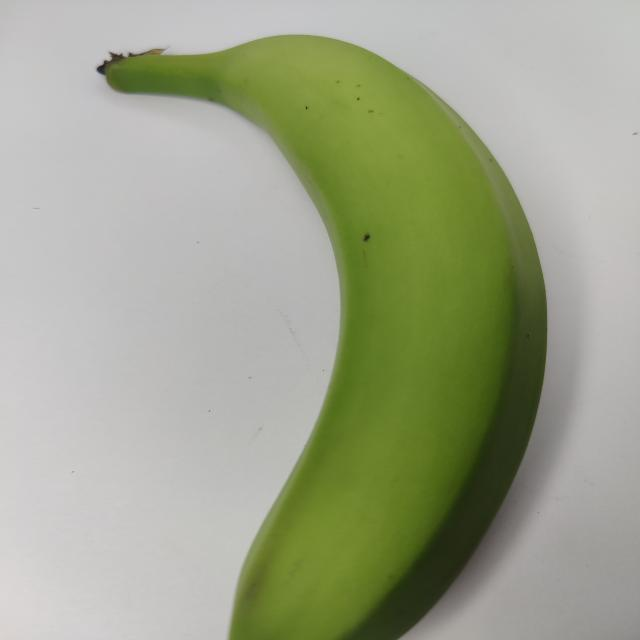raw: (70, 24, 595, 640)
